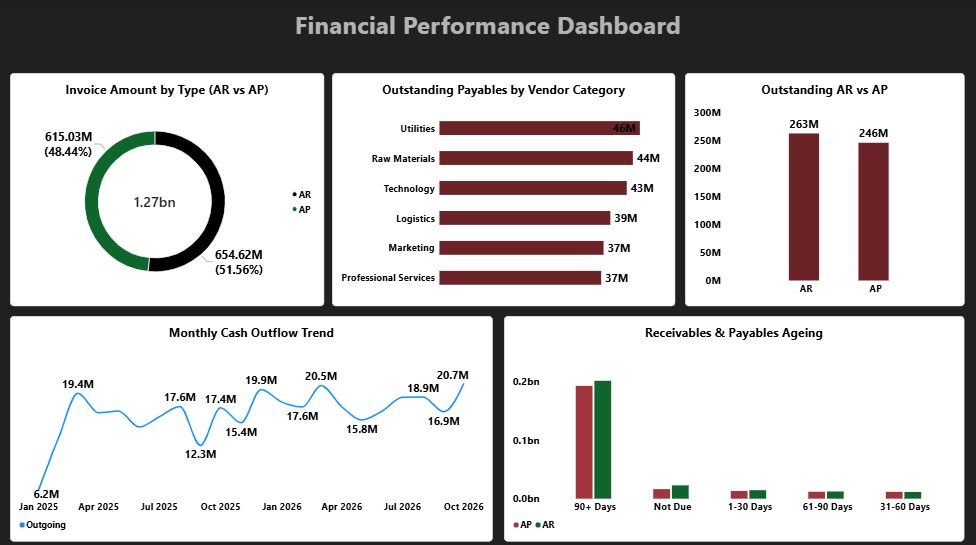

Layout of this report page (visuals, bound fields, positions):
{"tool":"powerbi","page":{"name":"Working Capital & Cash Flow","canvas":[1920,1080],"ordinal":3},"visuals":[{"type":"donutChart","title":"Invoice Amount by Type (AR vs AP)","fields":{"Category":["invoices.invoice_type"],"Y":["Sum(invoices.invoice_amount_inr)"]},"box":[22,145.5,617.1,458.4],"z":0},{"type":"clusteredBarChart","title":"Outstanding Payables by Vendor Category","fields":{"Category":["vendors.vendor_category"],"Y":["invoices.Outstanding Payables"]},"box":[654.6,145.5,674.4,458.4],"z":1000},{"type":"lineChart","title":"Monthly Cash Outflow Trend","fields":{"Category":["payments.payment_date.Variation.Date Hierarchy.Year","payments.payment_date.Variation.Date Hierarchy.Month"],"Series":["payments.cash_direction"],"Y":["Sum(payments.payment_amount_inr)"]},"box":[22,621.6,947.8,443],"z":2000},{"type":"clusteredColumnChart","title":"Outstanding AR vs AP","fields":{"Category":["invoices.invoice_type"],"Y":["payments.Outstanding Invoice Amount"]},"box":[1346.7,145.5,548.8,458.4],"z":3000},{"type":"clusteredColumnChart","title":"Receivables & Payables Ageing","fields":{"Category":["invoice_reconciliation_as_of_2026-10-31.ageing_bucket"],"Series":["invoice_reconciliation_as_of_2026-10-31.invoice_type"],"Y":["Sum(invoice_reconciliation_as_of_2026-10-31.outstanding_amount_inr)"]},"box":[991.8,621.6,903.7,443],"z":4000},{"type":"textbox","title":"Financial Performance Dashboard","box":[347.3,17.6,1225.5,101.4],"z":5002}]}

Visuals, with their boxes in screenshot pixels (x1, y1, x2, y2), scaled from the page's 1920x1080 canvas onto the 976x545 screenshot:
"Invoice Amount by Type (AR vs AP)" donutChart: l=11, t=73, r=325, b=305
"Outstanding Payables by Vendor Category" clusteredBarChart: l=333, t=73, r=676, b=305
"Monthly Cash Outflow Trend" lineChart: l=11, t=314, r=493, b=537
"Outstanding AR vs AP" clusteredColumnChart: l=685, t=73, r=964, b=305
"Receivables & Payables Ageing" clusteredColumnChart: l=504, t=314, r=964, b=537
"Financial Performance Dashboard" textbox: l=177, t=9, r=800, b=60
